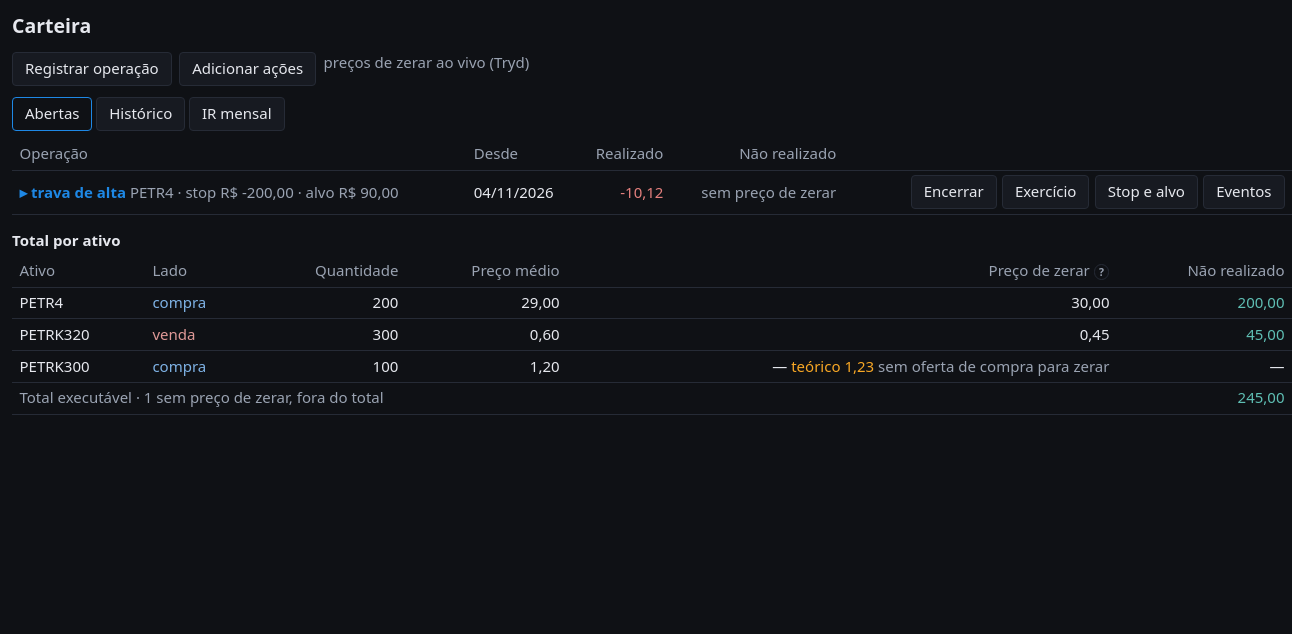
Test case: a operação mostra o stop e o alvo, e o botão abre o diálogo deles
The width and height of the screenshot is (1292, 634).
Click the button "Stop e alvo" at (1146, 192), box [1095,175,1198,209]
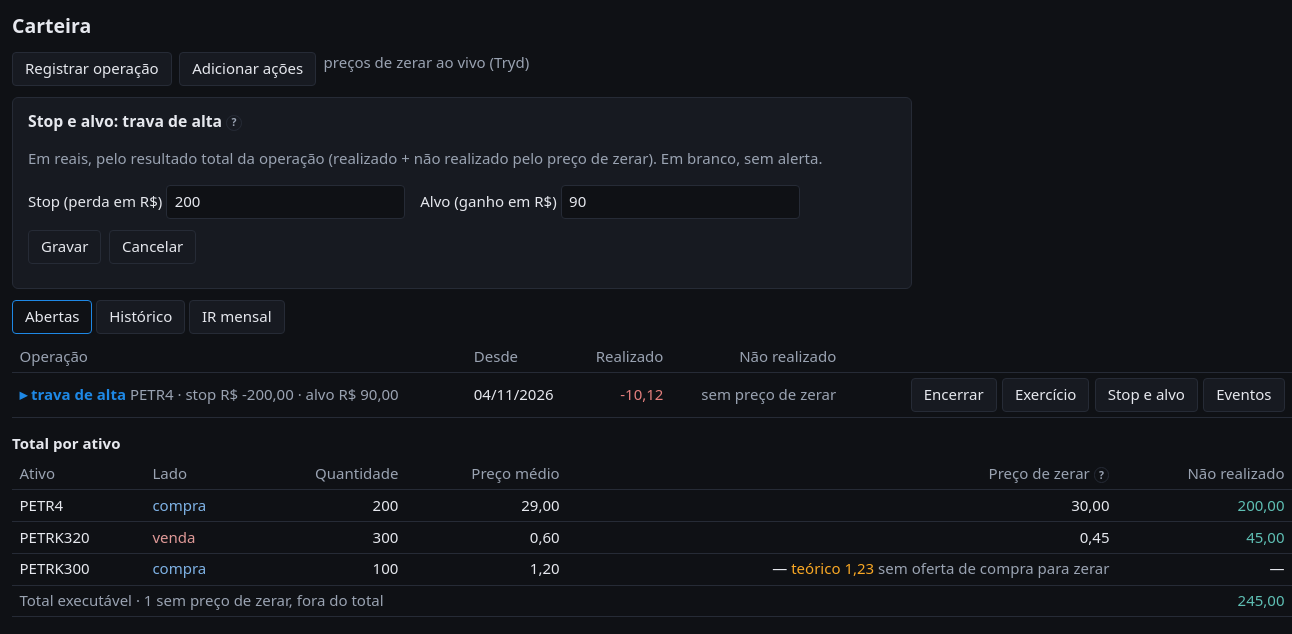
Expected: the form named "Stop e alvo de trava de alta" is shown, [12,97,912,289]
